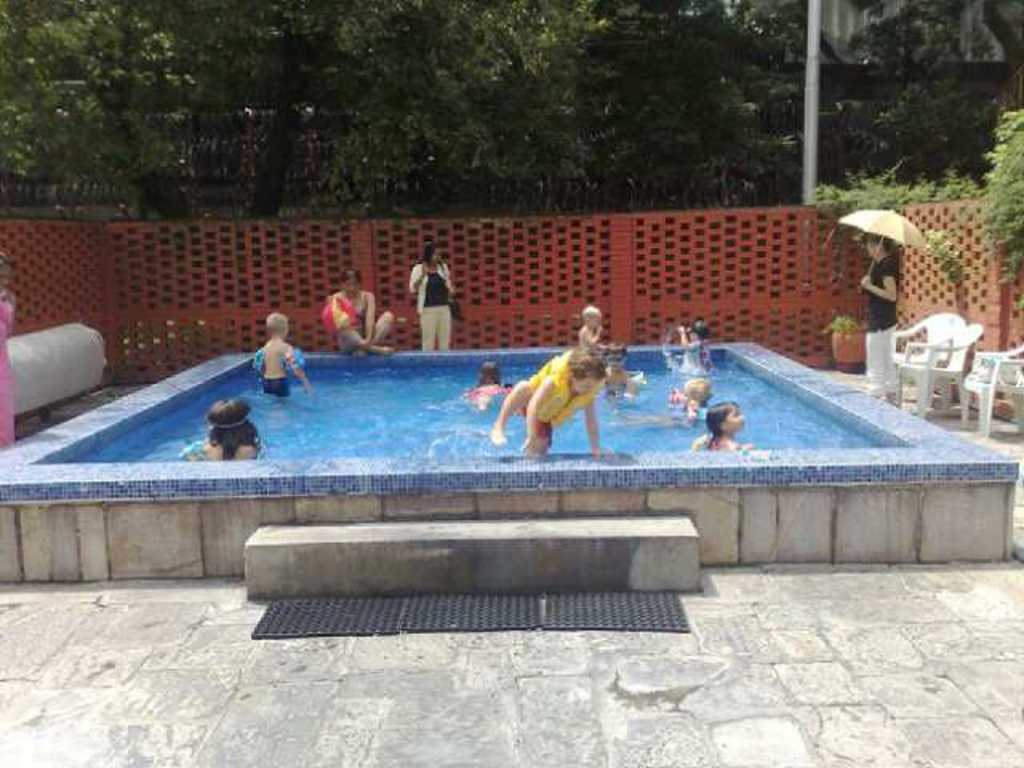Person: (485, 347, 622, 459), (249, 309, 311, 422), (319, 277, 396, 357), (410, 246, 462, 360)
